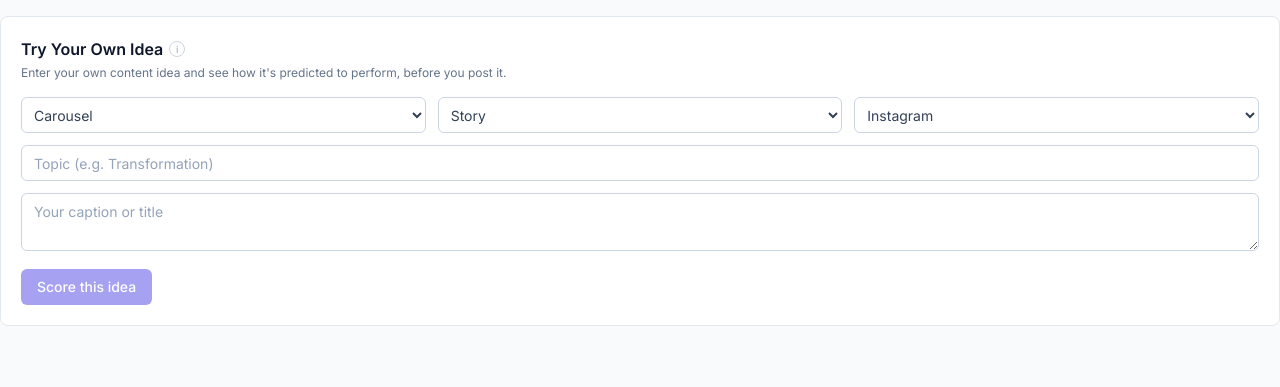
Scenario: submits the form and displays the predicted score
The width and height of the screenshot is (1280, 387).
Type "transformation" into the field with placeholder "Topic (e.g. Transformation)" at (640, 163), box [21,145,1259,181]
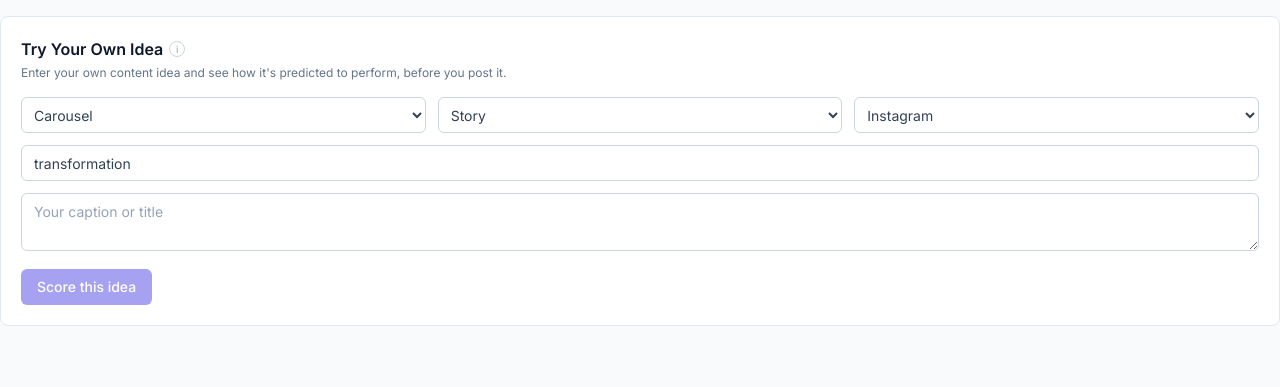
Type "My own idea caption." into the text box with placeholder "Your caption or title" at (640, 222), box [21,193,1259,251]
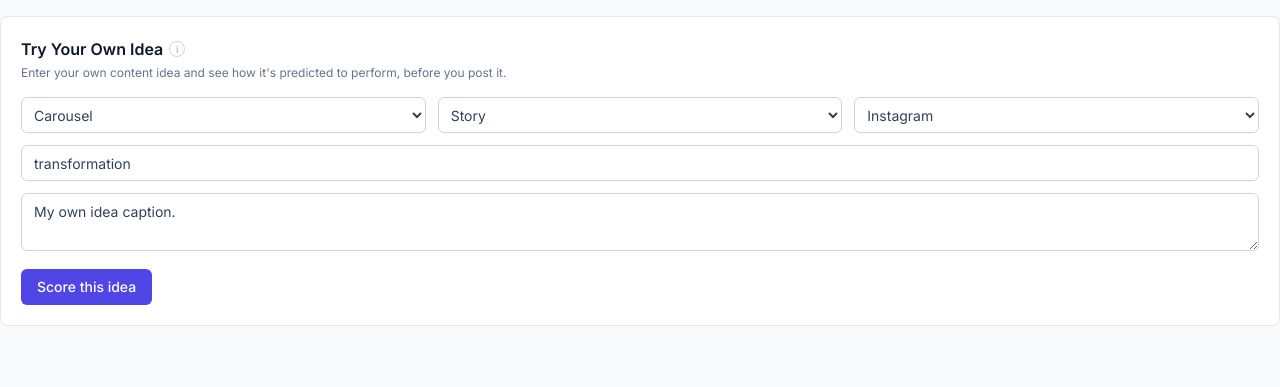
Click the button "Score this idea" at (87, 287), box [21,269,152,305]
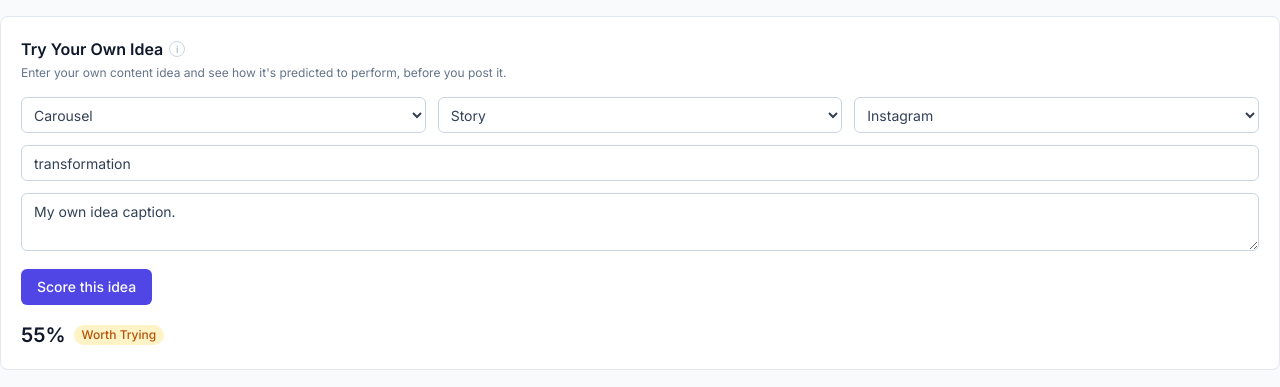
Expected: the text "55%" is shown, [21,321,66,349]
